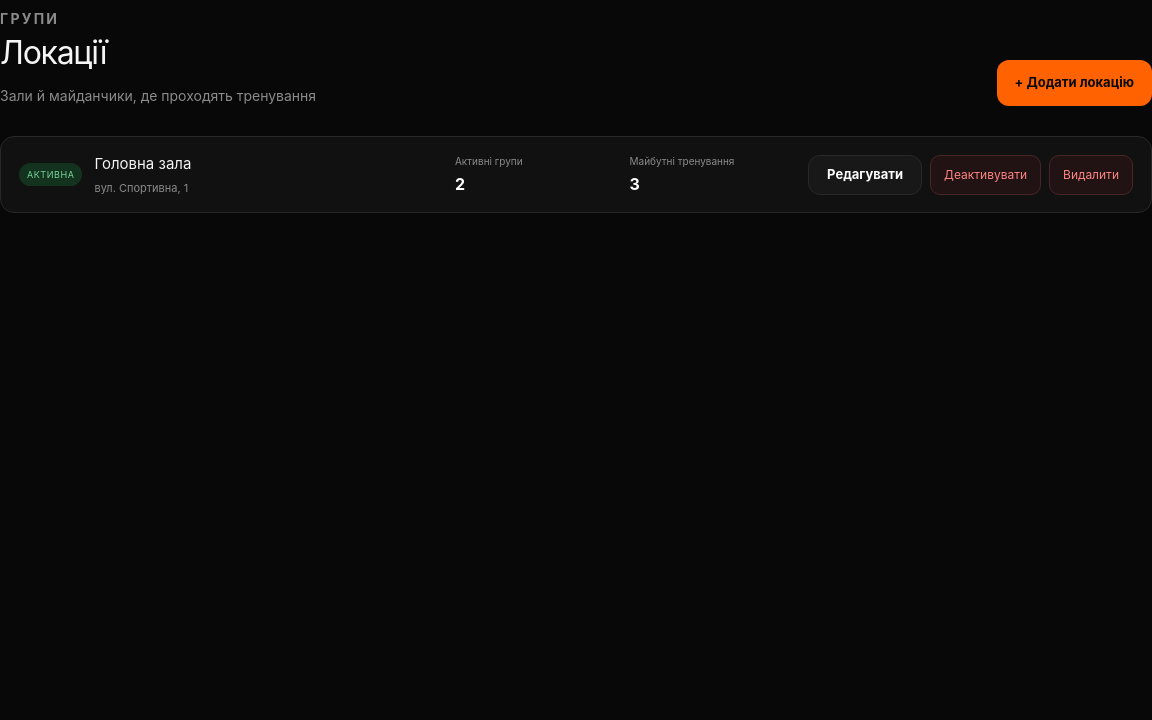
Scenario: LocationManager › opens edit with existing values
The width and height of the screenshot is (1152, 720).
Step 1. Click the button "Редагувати" → coordinates (865, 174), box [808,154,922,194]
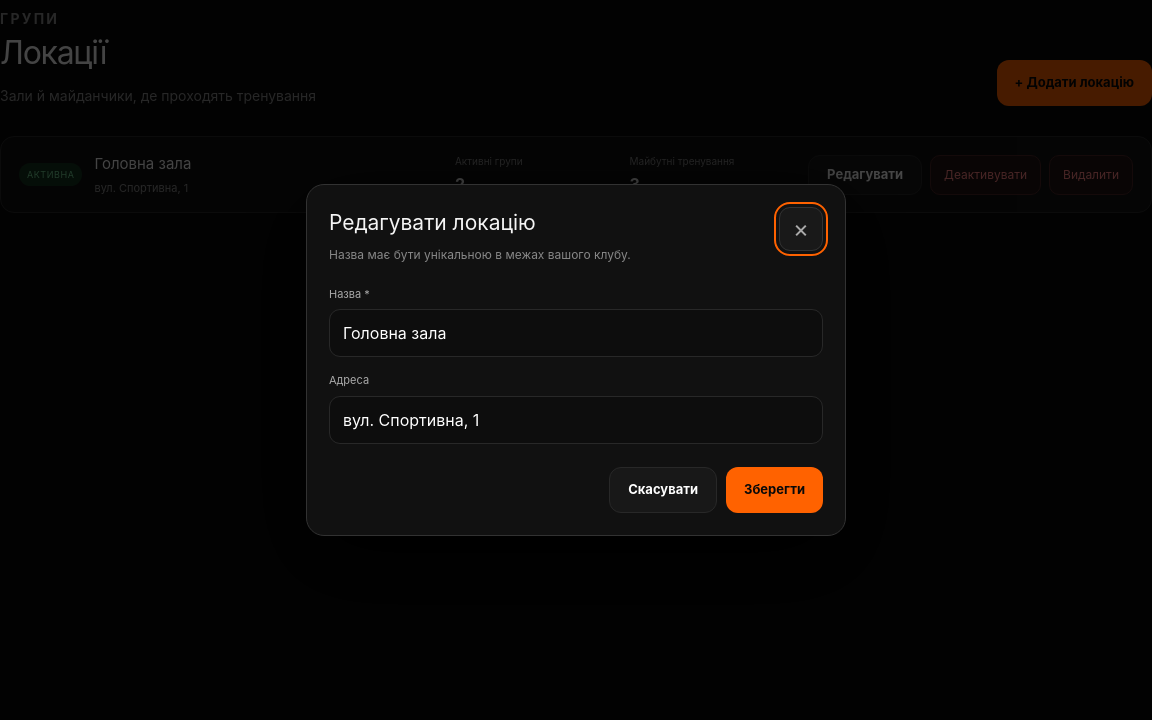
Check: the dialog "Редагувати локацію" is shown, box [306,184,846,536]
Check: the field labelled "Назва *" holds "Головна зала", box [329,309,823,357]
